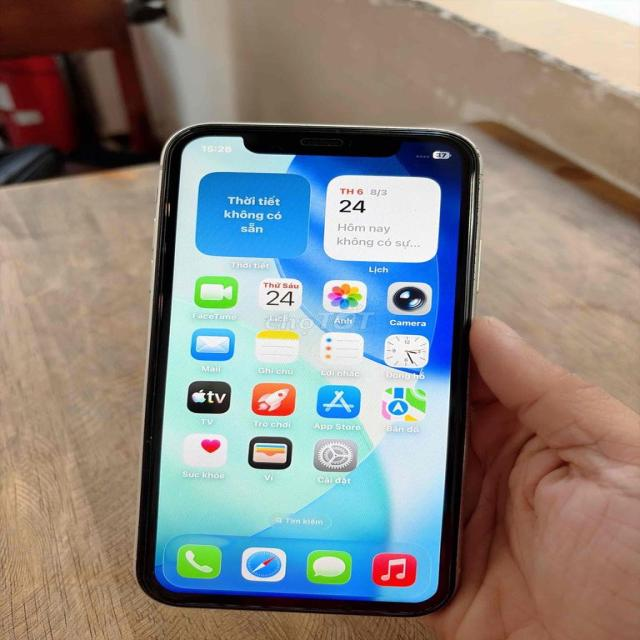gen_11: (142, 113, 470, 621)
